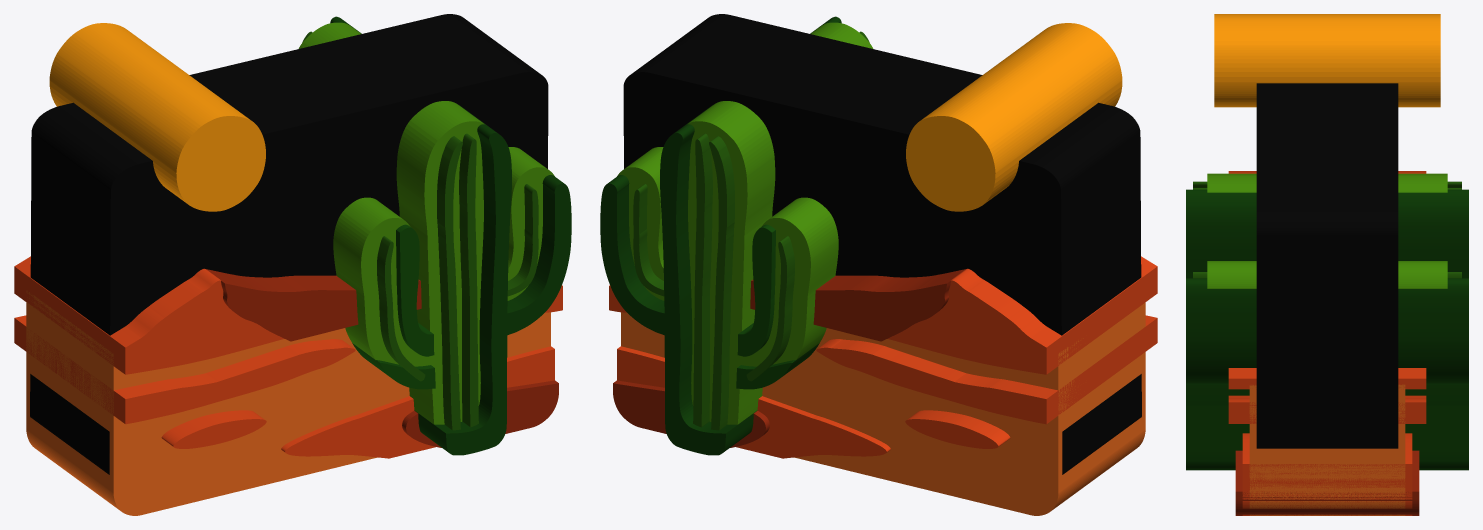
3 views of the same model, side by side, from view 1: azimuth 30°, elevation 25°; view 2: azimuth 150°, elevation 25°; view 3: azimuth 270°, elevation 25° (orthographic). The views are drawn at different scales.
Parts seen in each view (by area): view 1: U+1F3DC_layer00_obj00, U+1F3DC_layer01_obj00, U+1F3DC_layer07_obj00, U+1F3DC_layer06_obj00, U+1F3DC_layer10_obj00, U+1F3DC_layer04_obj04, U+1F3DC_layer04_obj02, U+1F3DC_layer05_obj00, U+1F3DC_layer02_obj00, U+1F3DC_layer09_obj03, U+1F3DC_layer09_obj01, U+1F3DC_layer08_obj01 (+5 smaller); view 2: U+1F3DC_layer00_obj00, U+1F3DC_layer01_obj00, U+1F3DC_layer07_obj00, U+1F3DC_layer06_obj00, U+1F3DC_layer10_obj00, U+1F3DC_layer04_obj04, U+1F3DC_layer04_obj02, U+1F3DC_layer05_obj00, U+1F3DC_layer02_obj00, U+1F3DC_layer09_obj03, U+1F3DC_layer09_obj01, U+1F3DC_layer08_obj01 (+5 smaller); view 3: U+1F3DC_layer00_obj00, U+1F3DC_layer10_obj00, U+1F3DC_layer06_obj00, U+1F3DC_layer01_obj00, U+1F3DC_layer02_obj00, U+1F3DC_layer07_obj00, U+1F3DC_layer03_obj00, U+1F3DC_layer04_obj01, U+1F3DC_layer04_obj00.
Boxes of the visible parts, <box> form: U+1F3DC_layer00_obj00: <box>30,14,548,474</box>; U+1F3DC_layer01_obj00: <box>26,290,550,515</box>; U+1F3DC_layer07_obj00: <box>298,22,554,424</box>; U+1F3DC_layer06_obj00: <box>49,23,265,211</box>; U+1F3DC_layer10_obj00: <box>330,16,571,455</box>; U+1F3DC_layer04_obj04: <box>14,256,284,374</box>; U+1F3DC_layer04_obj02: <box>14,315,355,424</box>; U+1F3DC_layer05_obj00: <box>206,269,421,341</box>; U+1F3DC_layer02_obj00: <box>281,346,554,458</box>; U+1F3DC_layer09_obj03: <box>302,31,462,430</box>; U+1F3DC_layer09_obj01: <box>459,133,478,427</box>; U+1F3DC_layer08_obj01: <box>396,224,434,356</box>; U+1F3DC_layer00_obj00: <box>623,14,1141,474</box>; U+1F3DC_layer01_obj00: <box>621,302,1145,515</box>; U+1F3DC_layer07_obj00: <box>617,22,873,424</box>; U+1F3DC_layer06_obj00: <box>906,23,1122,211</box>; U+1F3DC_layer10_obj00: <box>600,16,841,455</box>; U+1F3DC_layer04_obj04: <box>887,256,1157,374</box>; U+1F3DC_layer04_obj02: <box>816,315,1157,424</box>; U+1F3DC_layer05_obj00: <box>750,269,965,341</box>; U+1F3DC_layer02_obj00: <box>617,346,890,458</box>; U+1F3DC_layer09_obj03: <box>709,31,869,430</box>; U+1F3DC_layer09_obj01: <box>693,133,712,427</box>; U+1F3DC_layer08_obj01: <box>737,224,775,356</box>; U+1F3DC_layer00_obj00: <box>1256,83,1398,448</box>; U+1F3DC_layer10_obj00: <box>1186,189,1468,470</box>; U+1F3DC_layer06_obj00: <box>1214,14,1440,107</box>; U+1F3DC_layer01_obj00: <box>1249,384,1405,515</box>; U+1F3DC_layer02_obj00: <box>1242,433,1412,515</box>; U+1F3DC_layer07_obj00: <box>1207,173,1447,288</box>; U+1F3DC_layer03_obj00: <box>1235,450,1419,515</box>; U+1F3DC_layer04_obj01: <box>1228,395,1426,423</box>; U+1F3DC_layer04_obj00: <box>1228,368,1426,389</box>.
Size of the model in its own units: 0.3194 by 0.2769 by 0.2.
